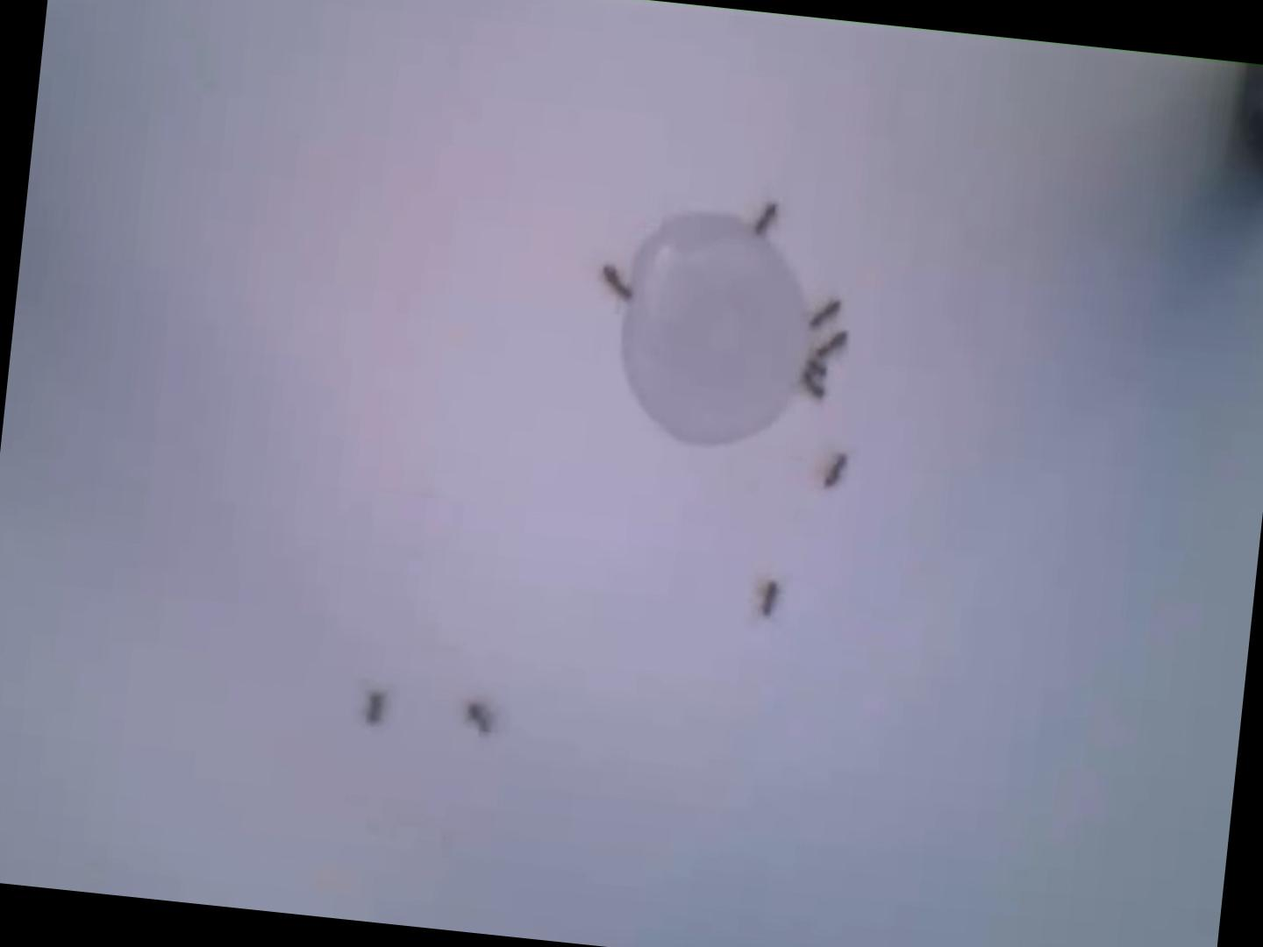Ant: (596, 264, 634, 301), (458, 699, 493, 735), (807, 293, 840, 331), (813, 326, 846, 360), (751, 197, 778, 236), (358, 688, 385, 726), (820, 451, 846, 490), (753, 577, 777, 619), (795, 370, 826, 400), (801, 356, 829, 384)
